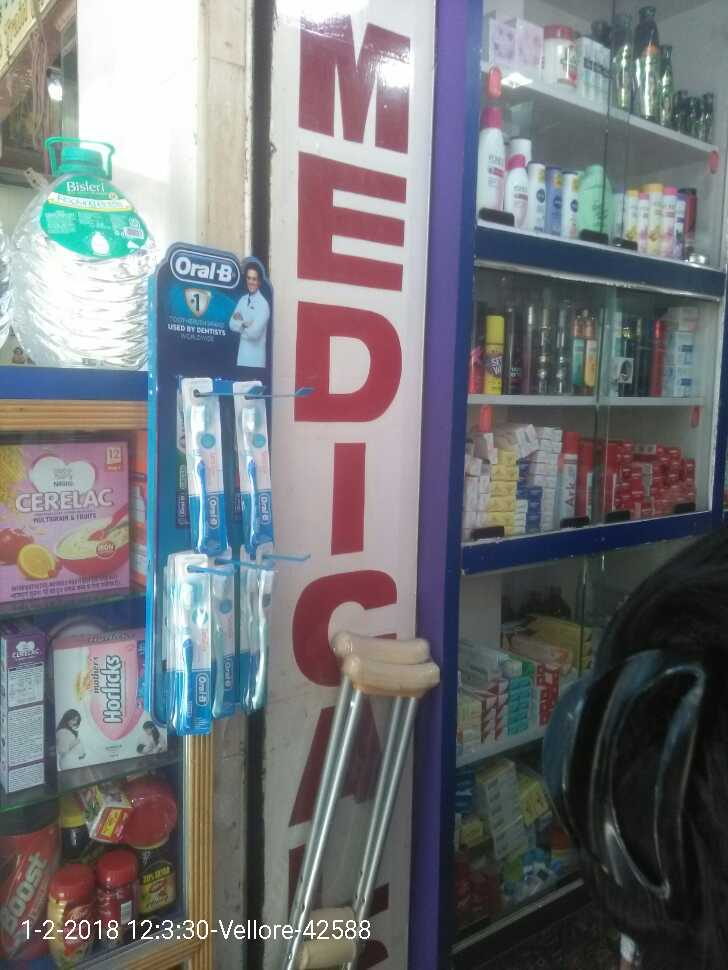oralb: (221, 398, 271, 548), (232, 568, 281, 712), (183, 394, 224, 551), (181, 565, 203, 718)
